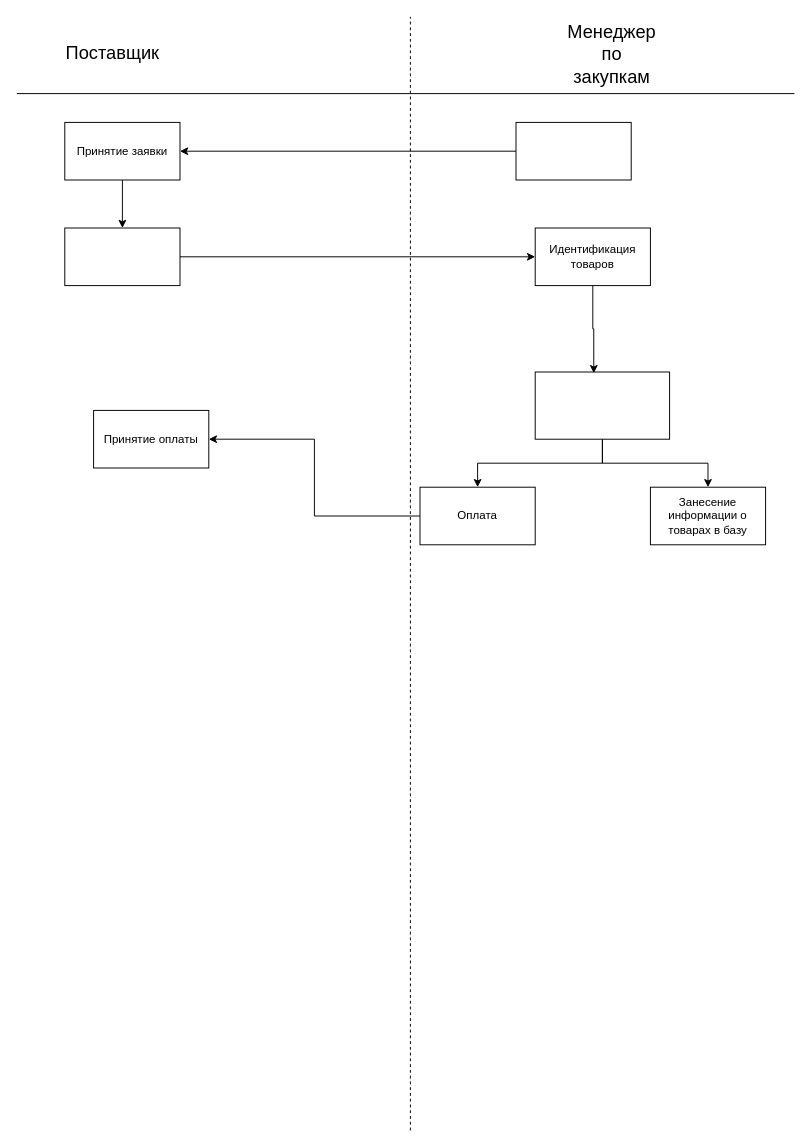
This 812x1148 diagram has some shape labels left out. The shapes that lost their labels are listed below. From the top down, each one's box as (x1, y1, x2, y2) in pixels, then its label:
(515, 121, 631, 180): Подача заявки на поставку
(64, 227, 180, 286): Поставка товаров
(534, 371, 670, 439): Сверка фактического количества товара и количества по накладной
